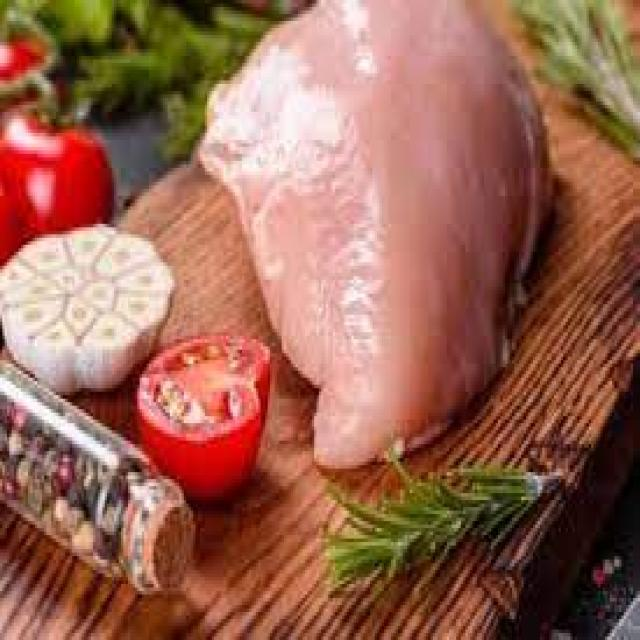chicken: (191, 0, 558, 468)
